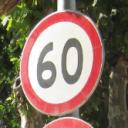speed_limit_60: (20, 10, 105, 114)
